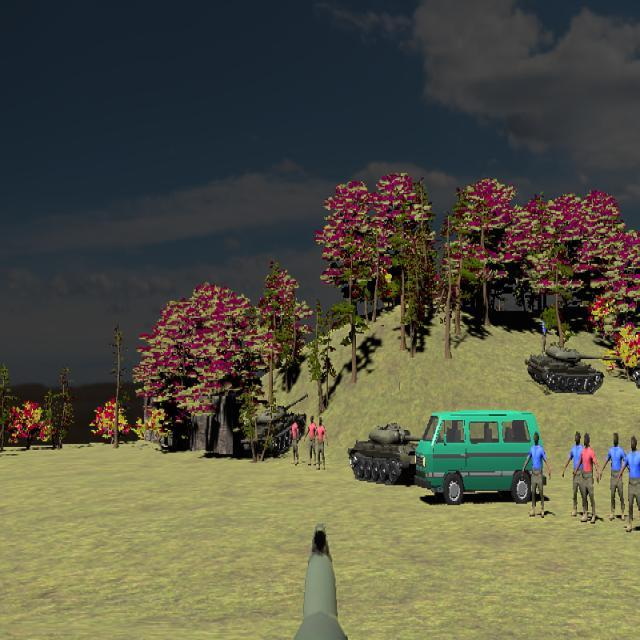Human: (599, 432, 630, 520), (523, 432, 551, 519), (616, 436, 640, 535), (573, 433, 599, 522), (523, 433, 550, 517), (313, 417, 329, 471), (304, 414, 320, 466), (289, 417, 301, 466)
Tank: (348, 421, 432, 486), (238, 393, 308, 459), (525, 347, 620, 395), (633, 352, 640, 392)
car: (415, 409, 545, 505)
